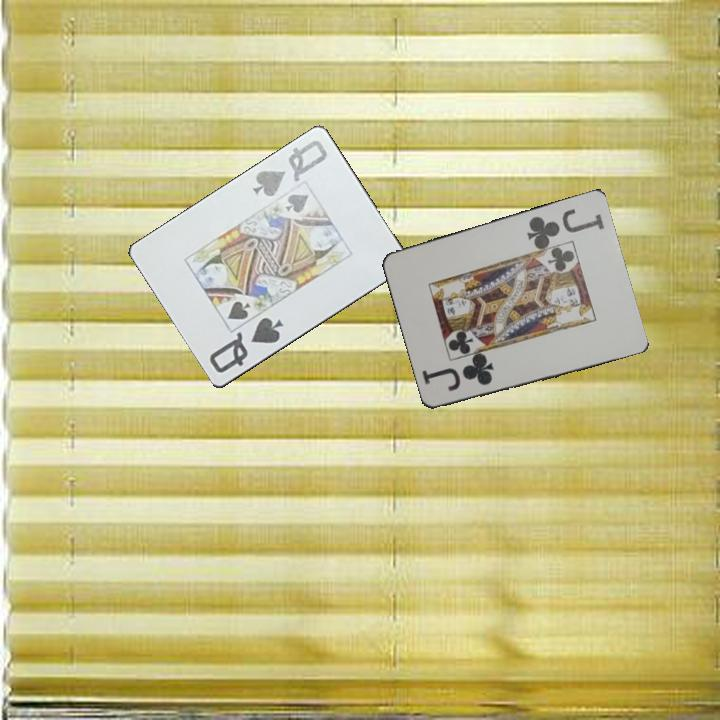Jc: (523, 205, 607, 251), (419, 354, 497, 394)
Qs: (249, 137, 330, 202), (206, 314, 287, 377)
